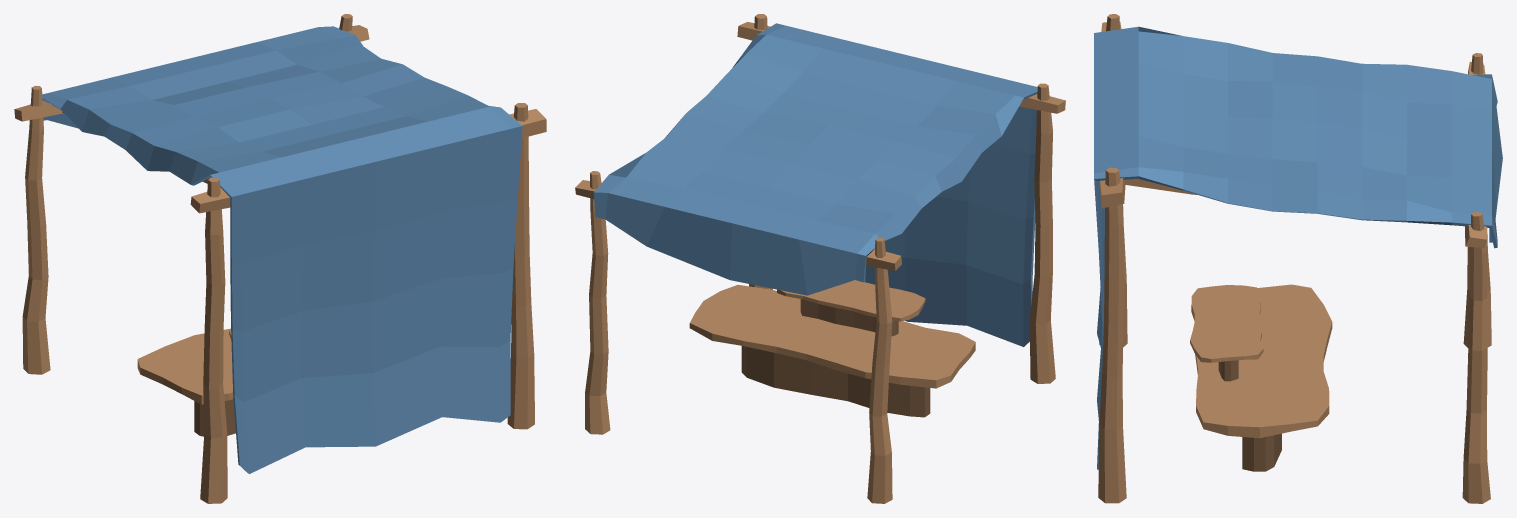
The model's file is Stall.fbx.
The picture shows the model from 3 angles, left to right: view 1: azimuth 30°, elevation 25°; view 2: azimuth 150°, elevation 25°; view 3: azimuth 270°, elevation 25°; orthographic projection. The views are drawn at different scales.
Visible parts, largest first — view 1: Cube; view 2: Cube; view 3: Cube.
Boxes of the visible parts, x1=… form: Cube: x1=14, y1=14, x2=546, y2=503; Cube: x1=575, y1=14, x2=1065, y2=503; Cube: x1=1094, y1=14, x2=1502, y2=503.
Size of the model in its own units: 451 by 398 by 449.
